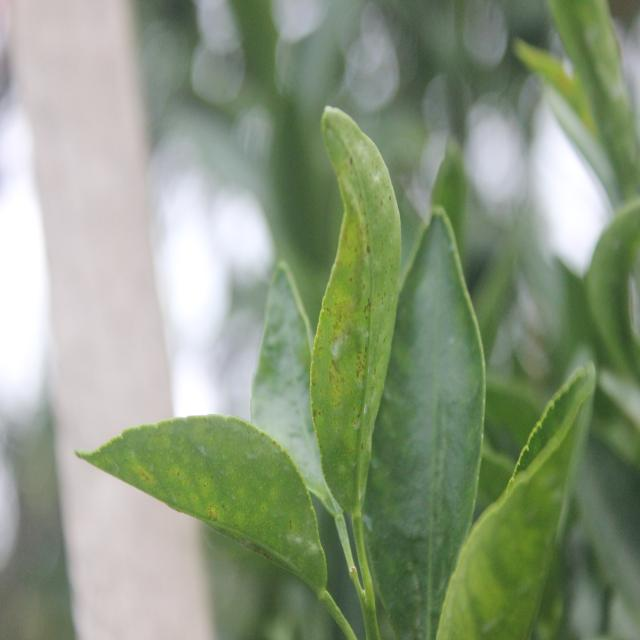canker: (318, 136, 397, 476)
